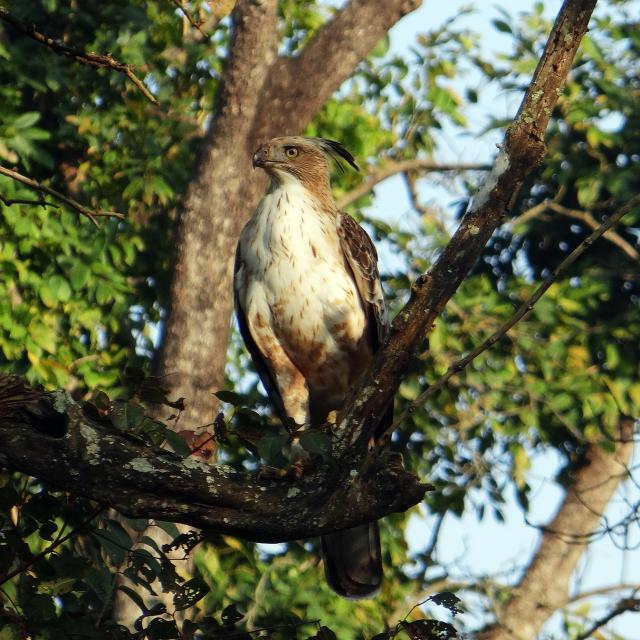Elang Jawa: (216, 116, 428, 608)
